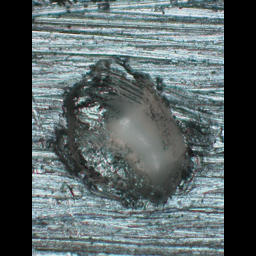d: (51, 47, 213, 216)
